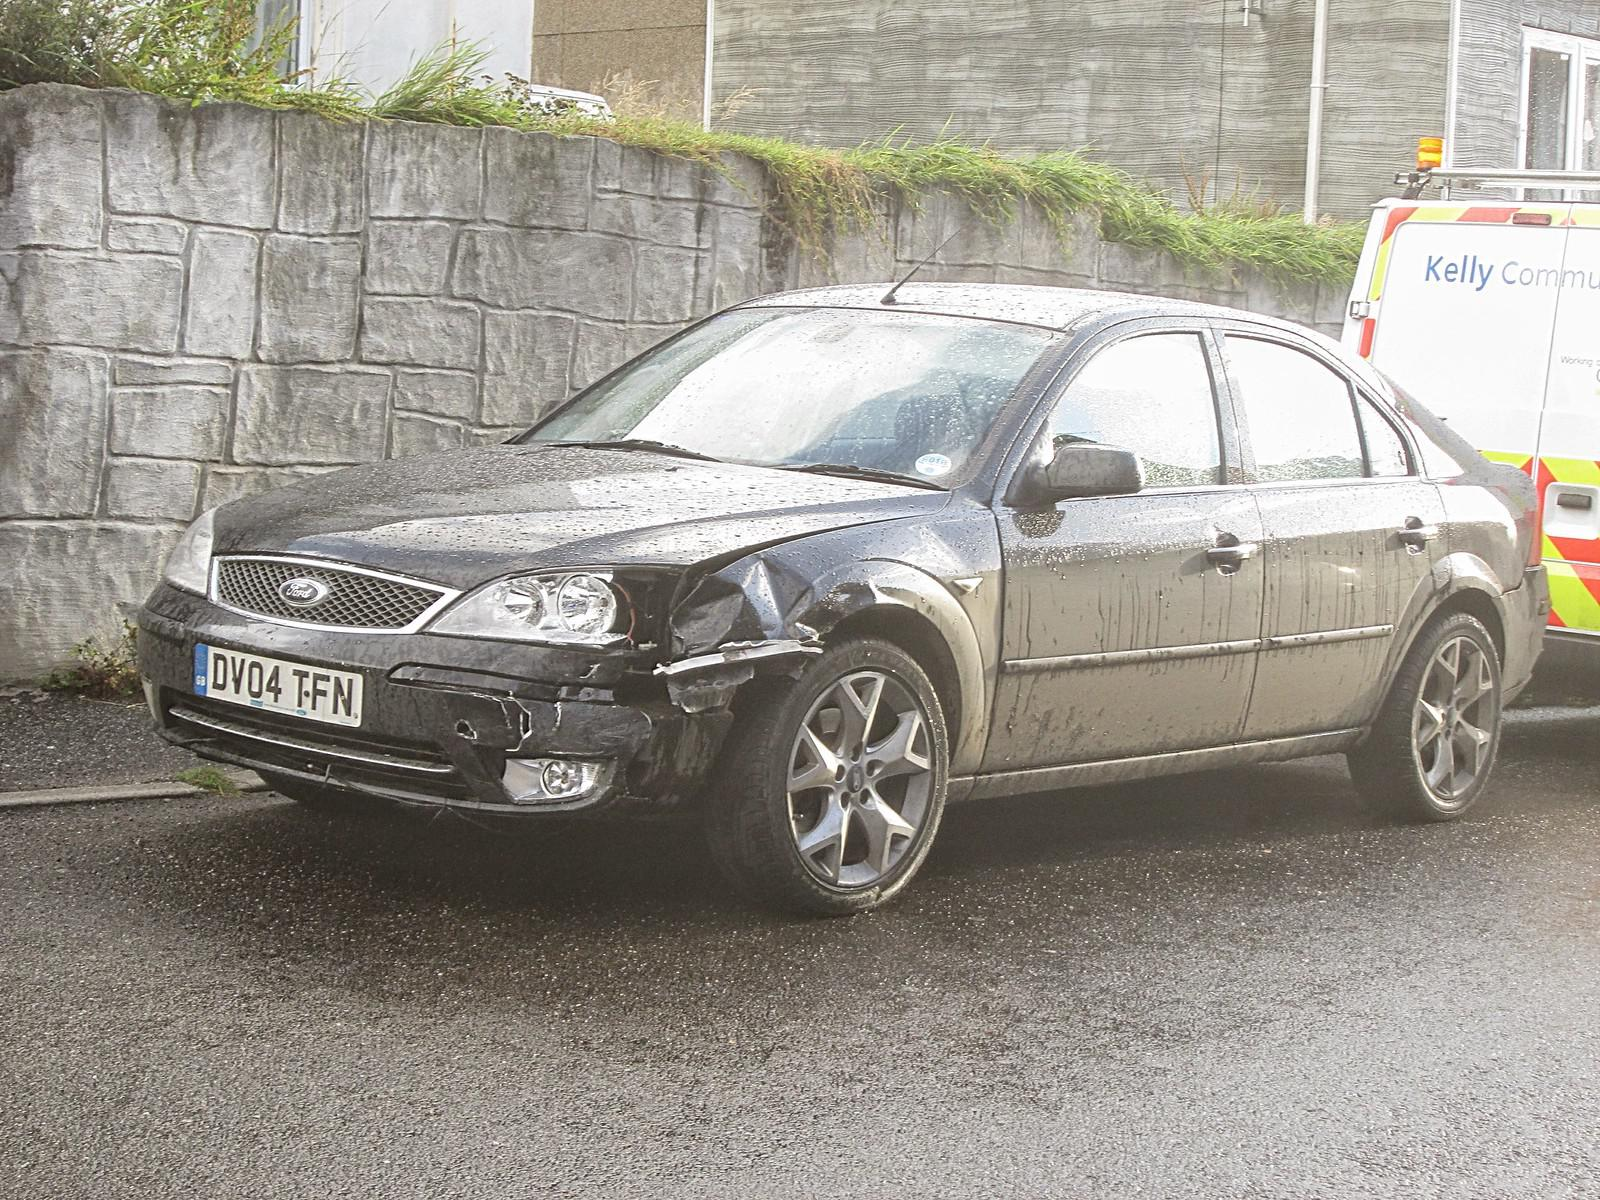Headlight-Damage: (459, 550, 724, 683)
fender-dent: (641, 487, 1002, 693)
